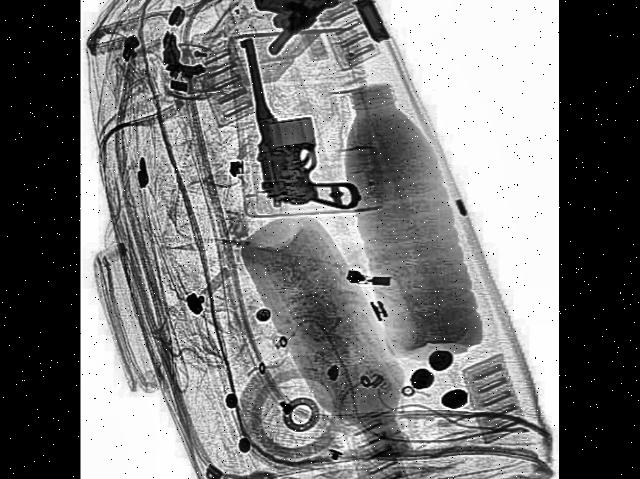Gun: (244, 30, 366, 230), (252, 0, 356, 58)
